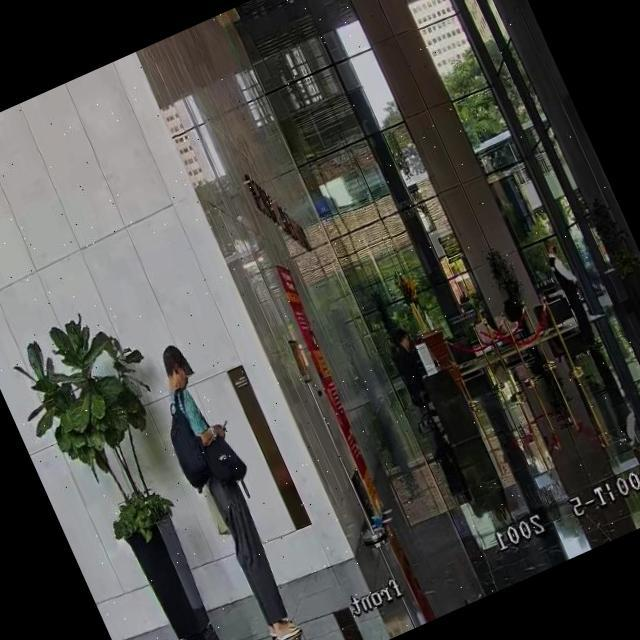person: (137, 335, 325, 640), (540, 236, 604, 346), (382, 322, 438, 407)
